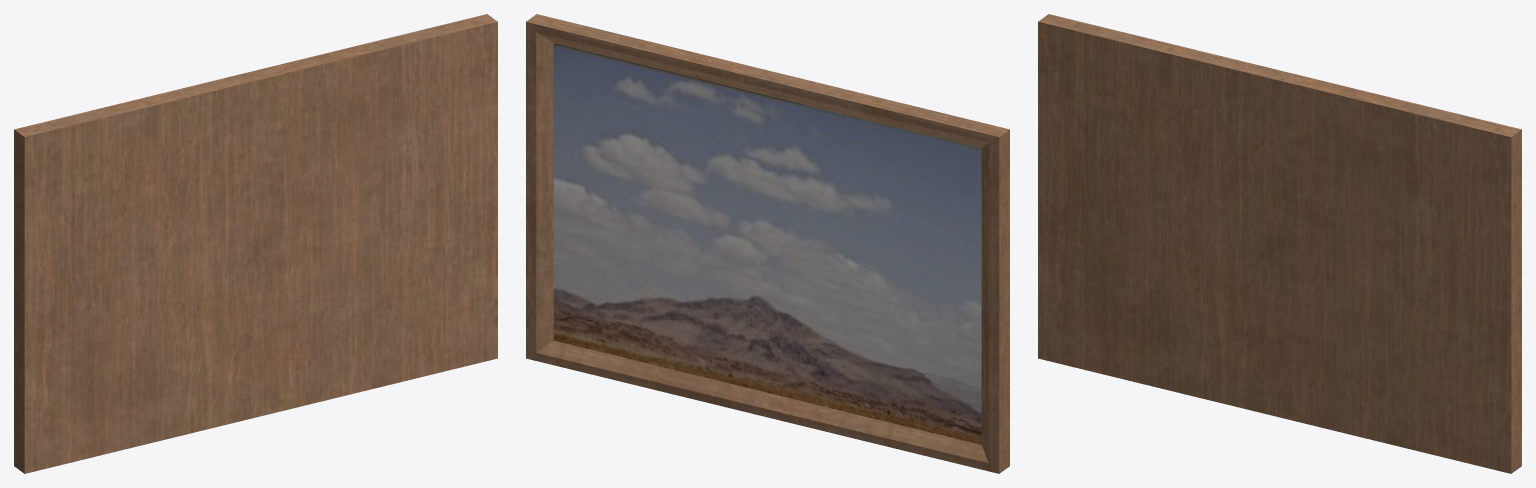
File: Paintings_08-col.glb
The picture shows the model from 3 angles, left to right: view 1: azimuth 30°, elevation 25°; view 2: azimuth 150°, elevation 25°; view 3: azimuth 330°, elevation 25°; orthographic projection.
Visible parts, largest first — view 1: Paintings_08-col; view 2: Paintings_08-col; view 3: Paintings_08-col.
Part boxes in pixels (box(x1,y1,x2,y2)): Paintings_08-col: box(14, 14, 497, 473); Paintings_08-col: box(526, 14, 1009, 473); Paintings_08-col: box(1038, 14, 1521, 473).
Size of the model in its own units: 1.3 by 0.884 by 0.0505.
Materials: 2 (2 with a texture image).
